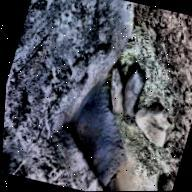boar: (114, 54, 164, 130), (97, 60, 134, 120)
